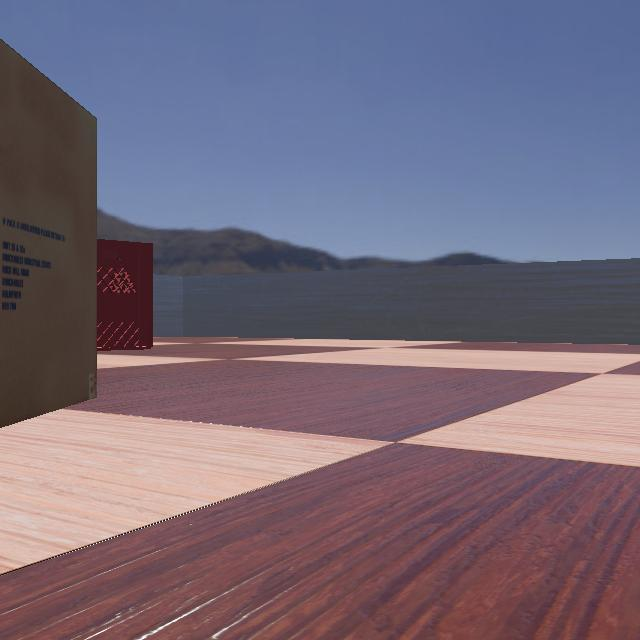cardboard-box: (1, 0, 98, 498)
